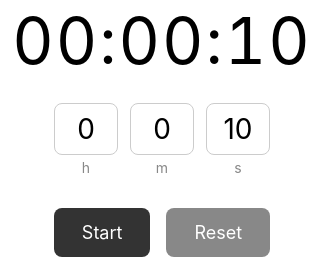
Test: TimerScreen › timer controls › start button is replaced by pause button once running
Click the element with test id "start-button". click: (102, 232)
box: [54,208,150,256]
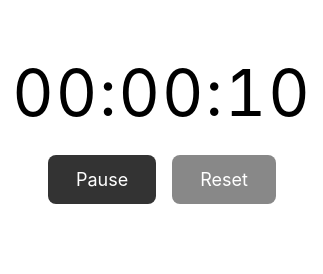
Expected: the element with test id "start-button" is gone
Expected: the element with test id "pause-button" is shown, [48,155,156,204]
